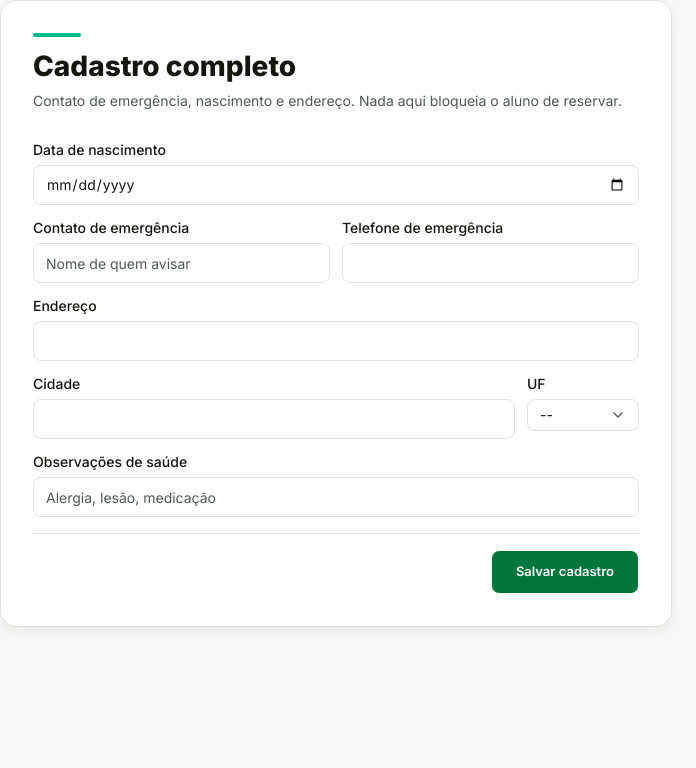
Test: CadastroCompletoDoAluno › a UF vem do contrato: `XX` não é oferecida
Click the dropdown named "UF".
click(583, 415)  # box [527,399,639,431]
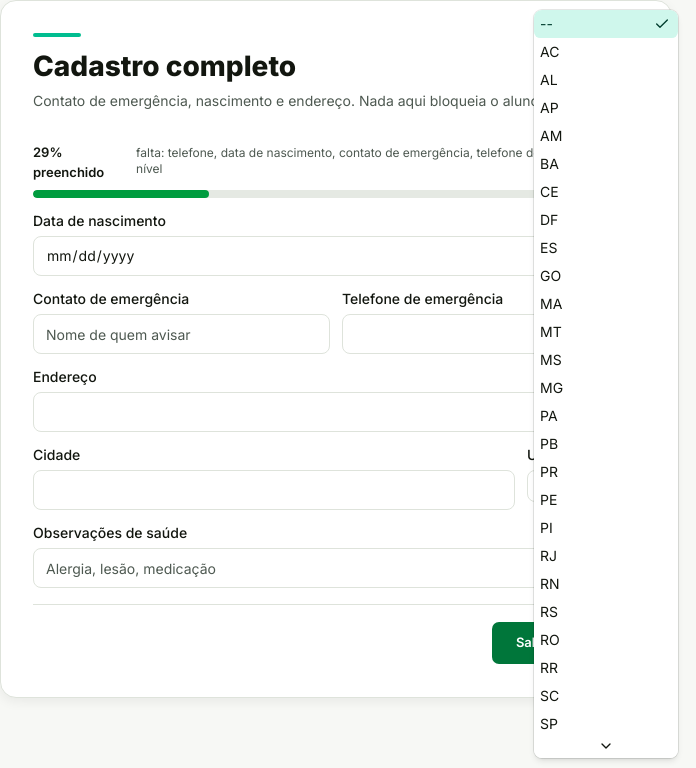
Result: the option "SP" is shown at [540,715,558,732]
